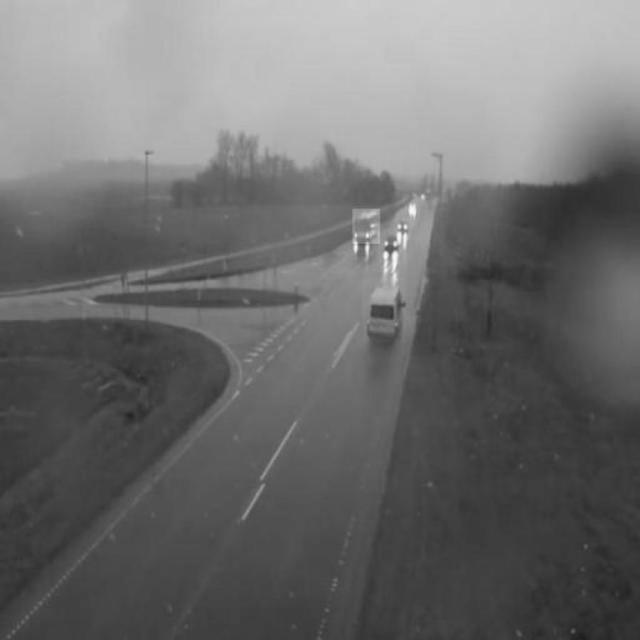vehicle: (363, 278, 407, 342), (352, 210, 380, 245)
